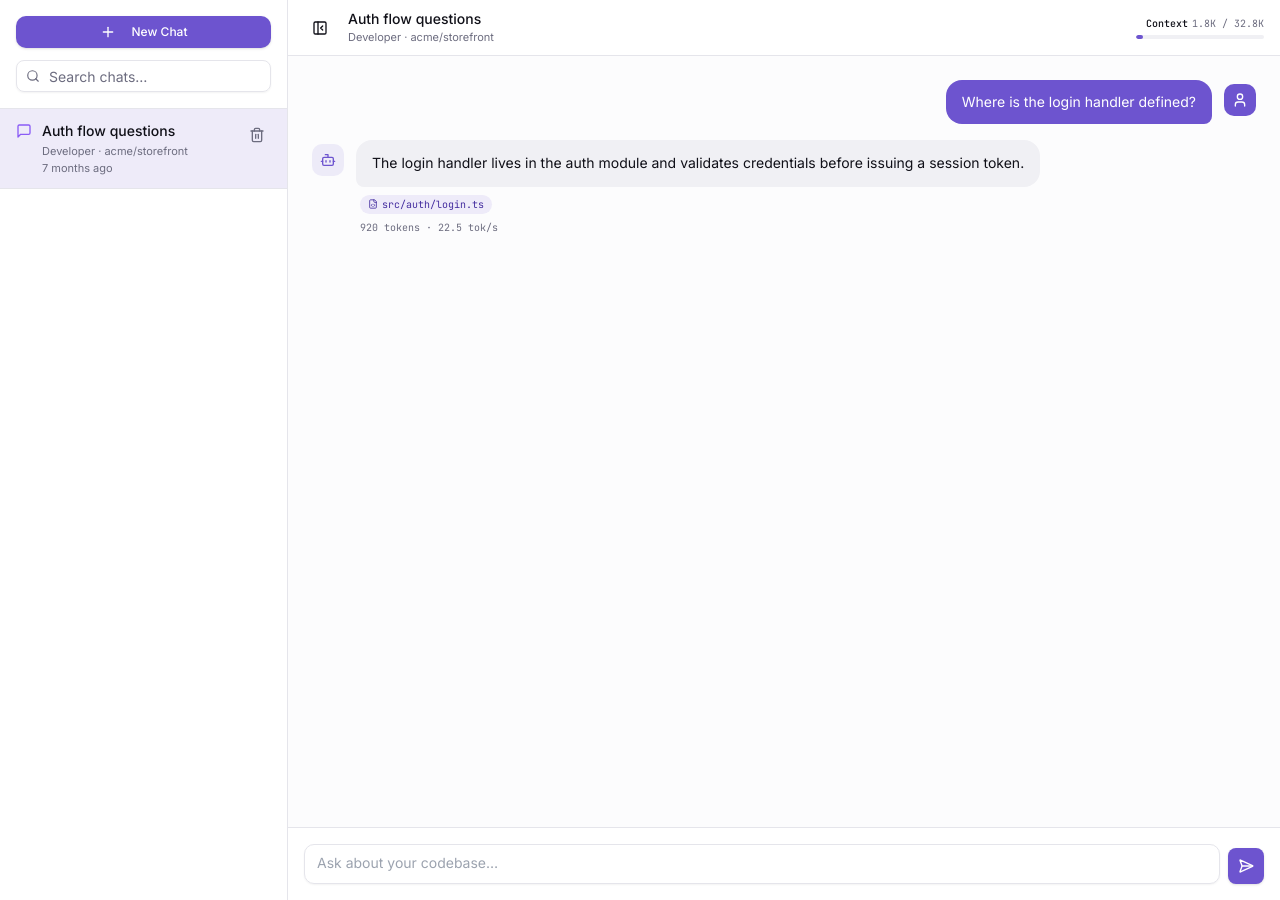
Test: Chat › shows an error when delete fails
The width and height of the screenshot is (1280, 900).
Check: the text "validates credentials" is shown, box left=372, top=154, right=1024, bottom=171
Click the button named "Delete conversation Auth flow questions": (257, 135) left=243, top=121, right=271, bottom=149
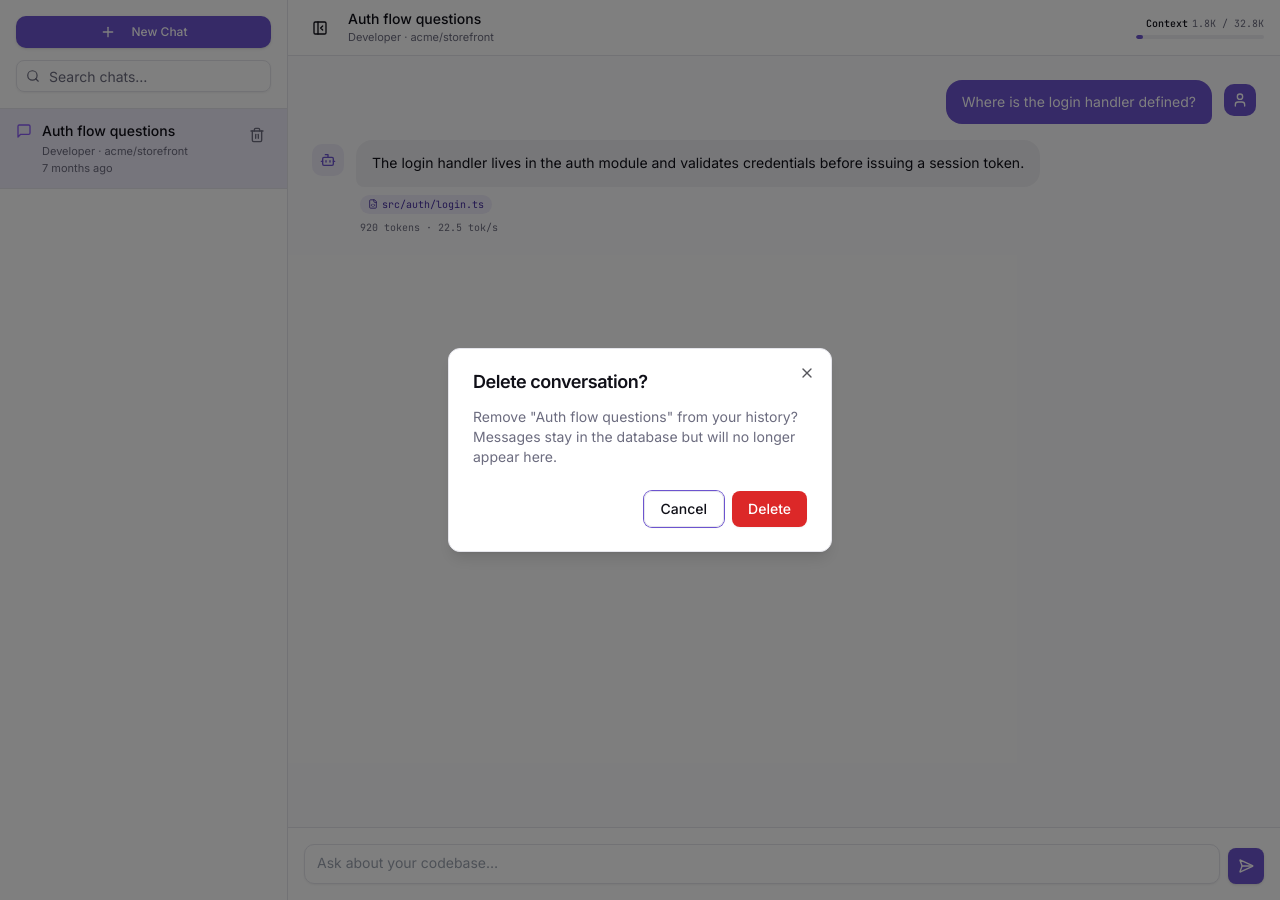
Click the button "Delete": (770, 509) left=732, top=491, right=807, bottom=527
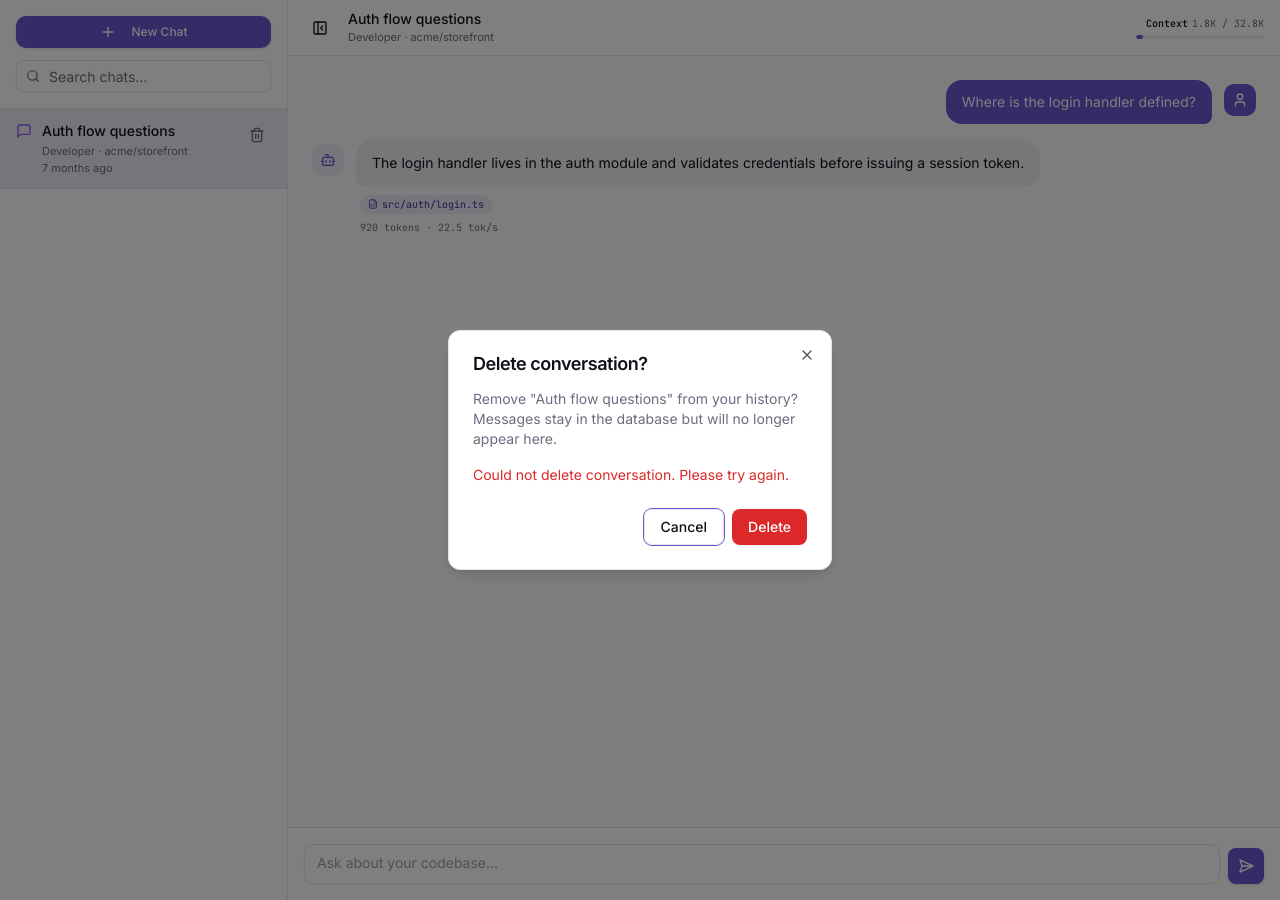
Check: the text "Could not delete conversation. Please try again." is shown, box left=473, top=465, right=807, bottom=485
